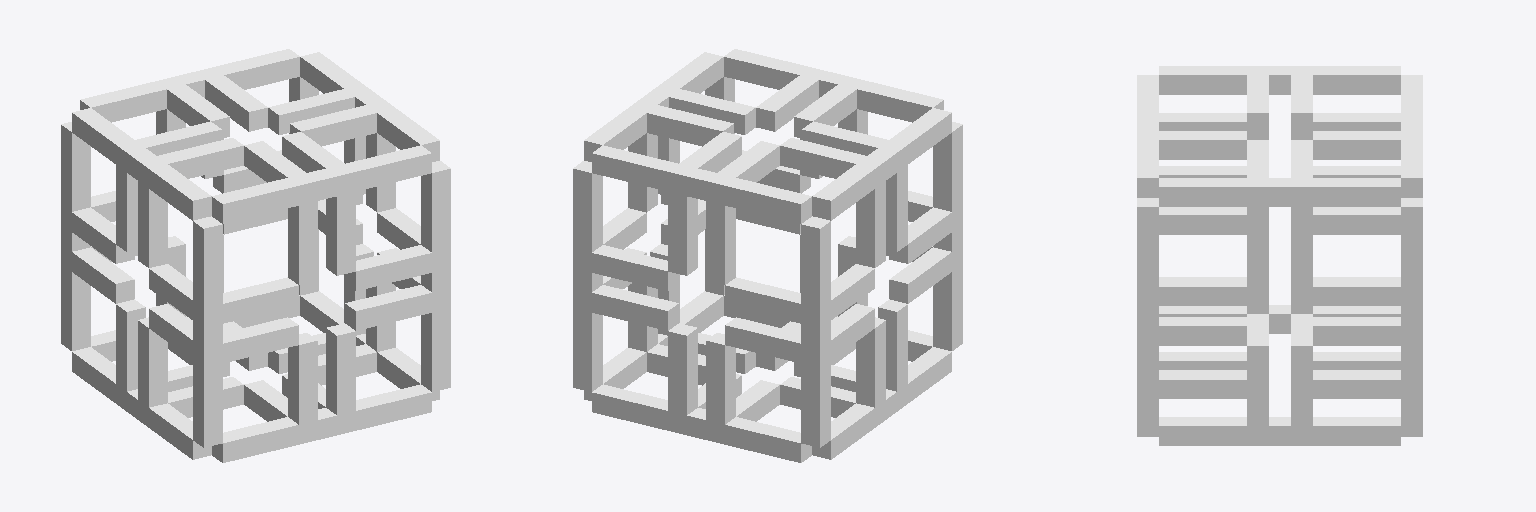
3 renders of one model, left to right at view 1: azimuth 30°, elevation 25°; view 2: azimuth 150°, elevation 25°; view 3: azimuth 270°, elevation 25°, orthographic.
Parts seen in each view (by area): view 1: object 1; view 2: object 1; view 3: object 1.
Boxes of the visible parts, x1,y1,x2,y2 form: object 1: [61, 49, 450, 462]; object 1: [573, 49, 962, 462]; object 1: [1137, 66, 1422, 445].
Bounding box in the file's own units: 1.3 × 1.3 × 1.3.
1 materials, 1 textured.